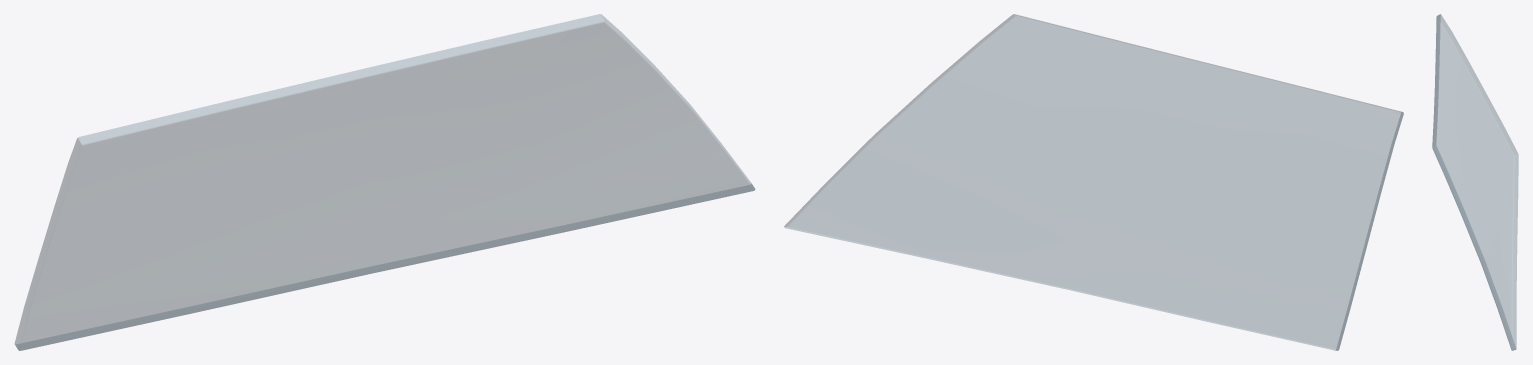
The picture shows the model from 3 angles, left to right: view 1: azimuth 30°, elevation 25°; view 2: azimuth 150°, elevation 25°; view 3: azimuth 270°, elevation 25°; orthographic projection. The views are drawn at different scales.
Visible parts, largest first — view 1: SM_MiniCooper_Door_FL_Glass_Ext2; view 2: SM_MiniCooper_Door_FL_Glass_Ext2; view 3: SM_MiniCooper_Door_FL_Glass_Ext2.
Boxes of the visible parts, box(x1,y1,x2,y2) form: SM_MiniCooper_Door_FL_Glass_Ext2: box(14, 14, 755, 350); SM_MiniCooper_Door_FL_Glass_Ext2: box(784, 14, 1403, 350); SM_MiniCooper_Door_FL_Glass_Ext2: box(1432, 14, 1518, 350).
Bounding box in the file's own units: 1.22 × 0.4469 × 0.236.
